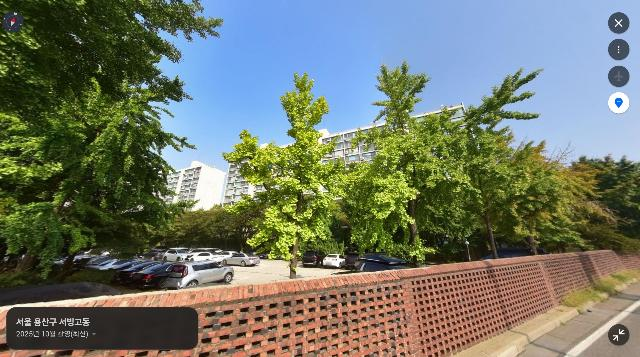other: (0, 0, 225, 286), (223, 71, 354, 280), (338, 60, 458, 267), (422, 66, 545, 260), (492, 138, 596, 257), (561, 152, 640, 254)
